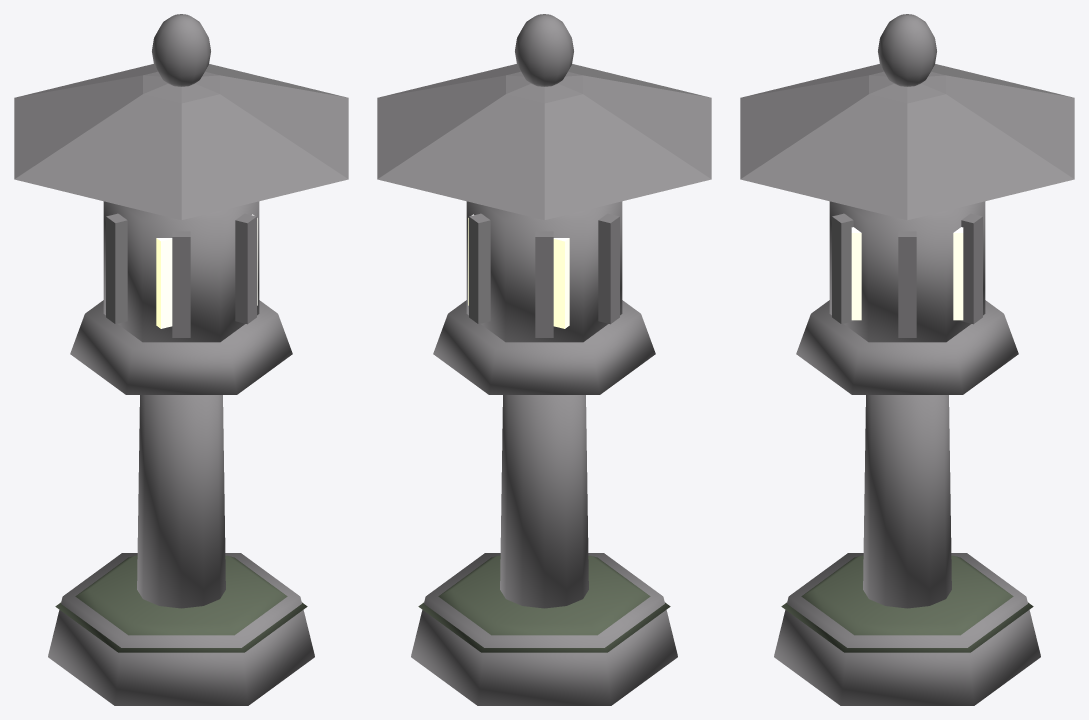
File: stone_lantern.glb
3 views of the same model, side by side, from view 1: azimuth 30°, elevation 25°; view 2: azimuth 150°, elevation 25°; view 3: azimuth 270°, elevation 25° (orthographic).
Parts seen in each view (by area): view 1: StoneLantern; view 2: StoneLantern; view 3: StoneLantern.
Part boxes in pixels (x1,y1,x2,y2): StoneLantern: (14,14,348,705); StoneLantern: (377,14,711,705); StoneLantern: (740,14,1074,705).
Bounding box in the file's own units: 1.04 × 1.9 × 0.9007.
